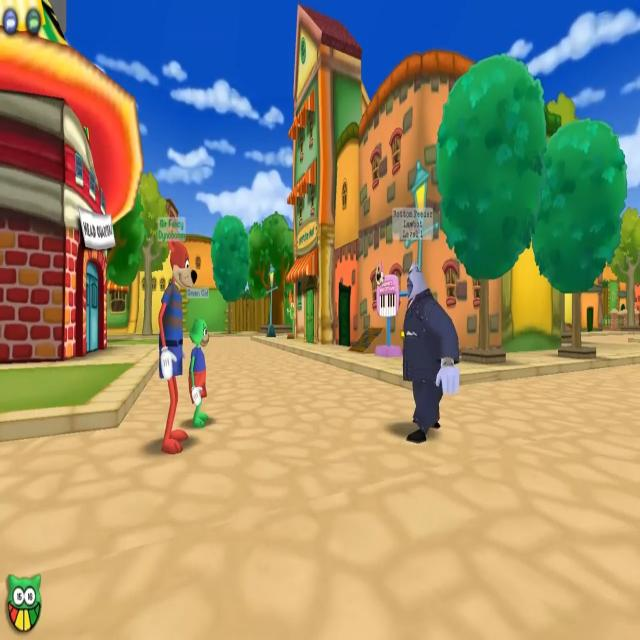bottomfeeder: (389, 202, 456, 436)
